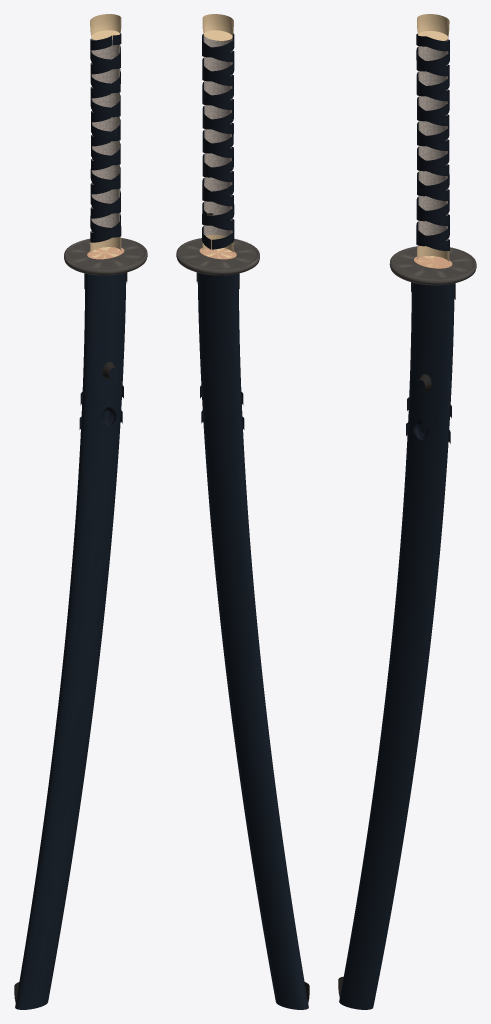
File: katana_saya.glb
The picture shows the model from 3 angles, left to right: view 1: azimuth 30°, elevation 25°; view 2: azimuth 150°, elevation 25°; view 3: azimuth 330°, elevation 25°; orthographic projection. The views are drawn at different scales.
Visible parts, largest first — view 1: saya; view 2: saya; view 3: saya.
Boxes of the visible parts, <box> form: saya: <box>14,14,147,1009</box>; saya: <box>176,14,309,1009</box>; saya: <box>338,14,476,1009</box>.
Bounding box in the file's own units: 0.1354 × 0.9815 × 0.0735.
8 materials, 5 textured.
